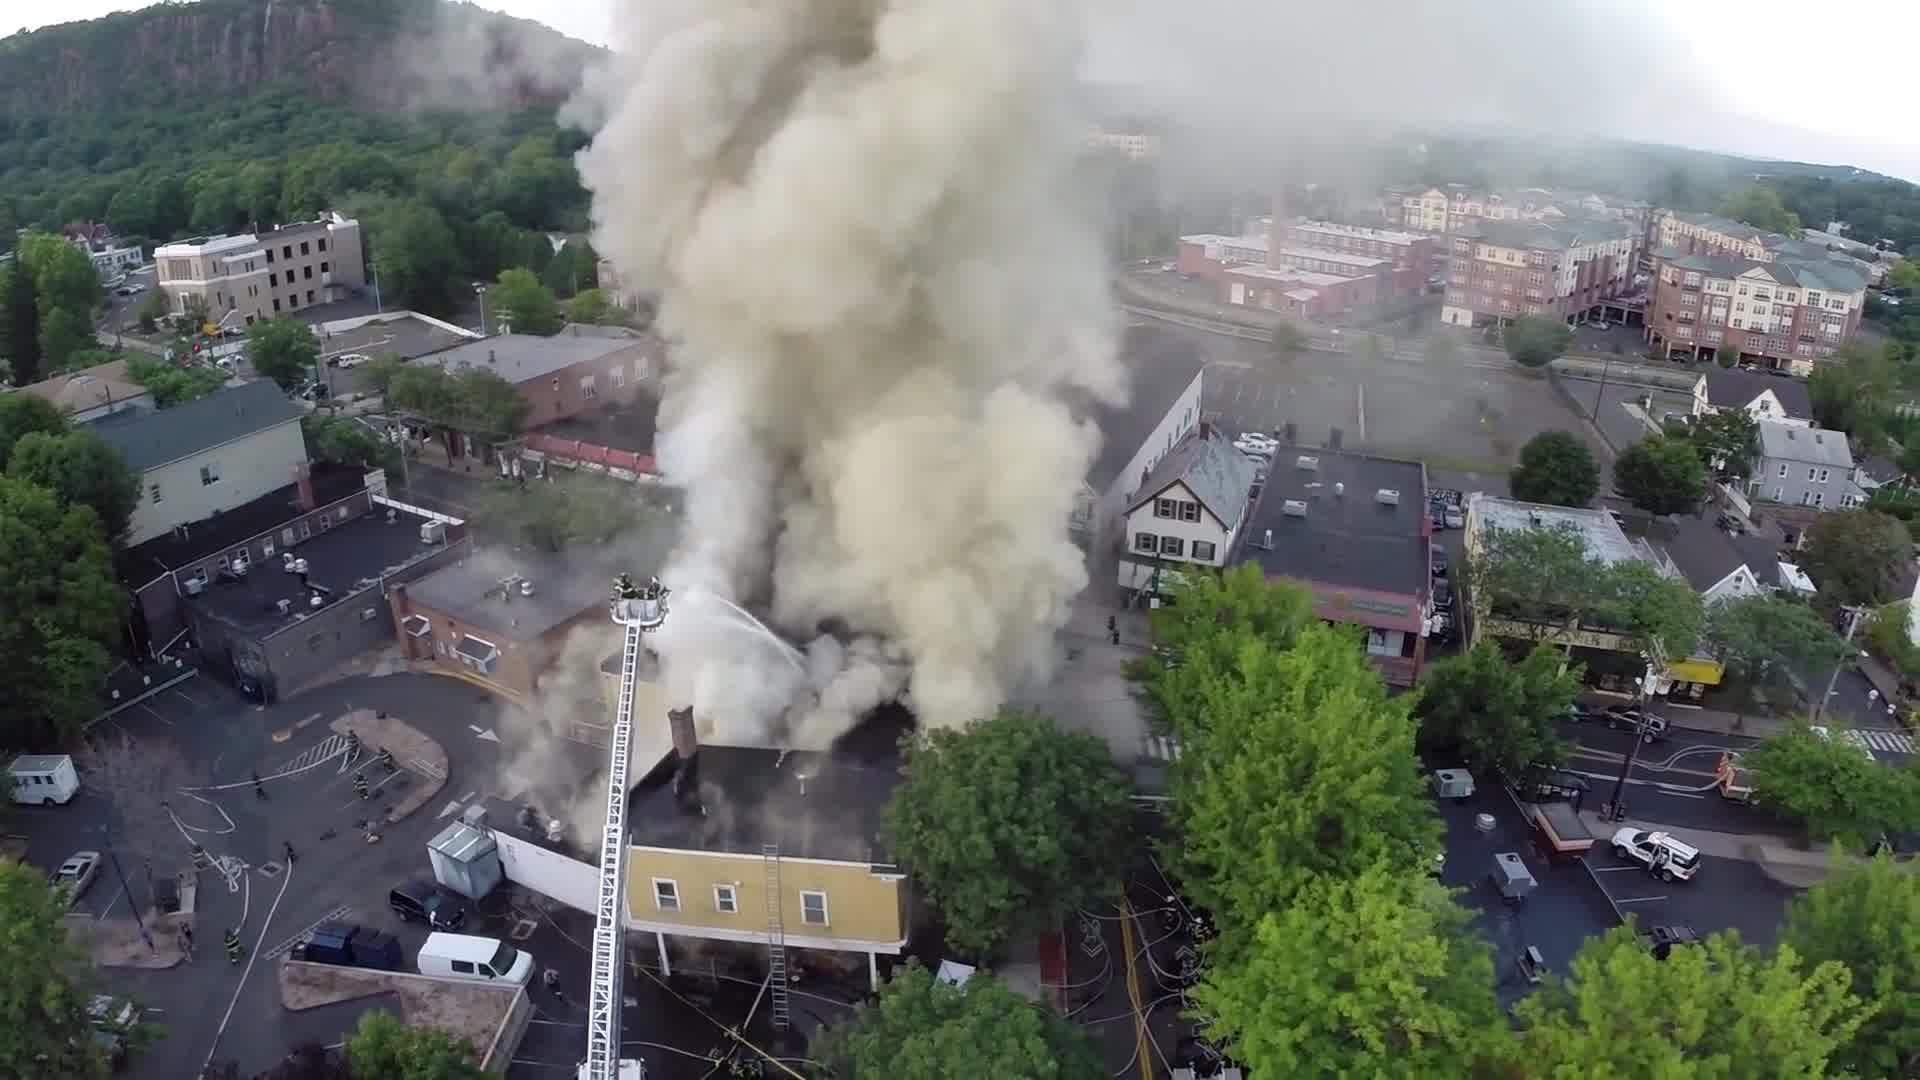fire: (580, 4, 1120, 729)
